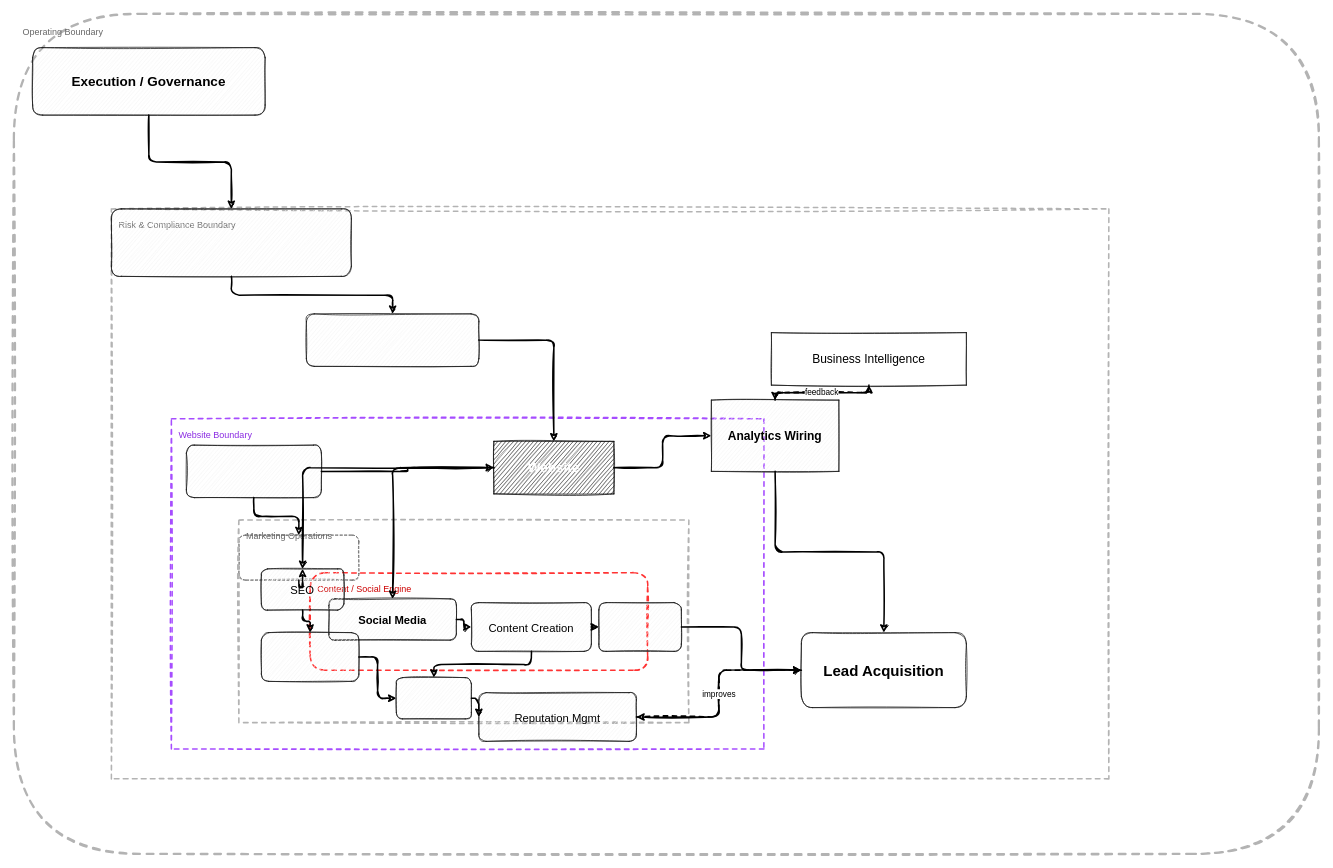
Some shapes in this 1333 by 868 pixel diagram are drawn without their labels. The shapes that lost their labels are listed below. From the top down, each one's centre as x and y in pixels, then its label:
At point (231, 242): "Risk & Compliance".
At point (392, 339): "Digital Backend Ops".
At point (253, 471): "Brand Mgmt".
At point (298, 557): "Copywriting".
At point (639, 626): "Ads".
At point (310, 656): "Local SEO".
At point (433, 698): "GBP".
